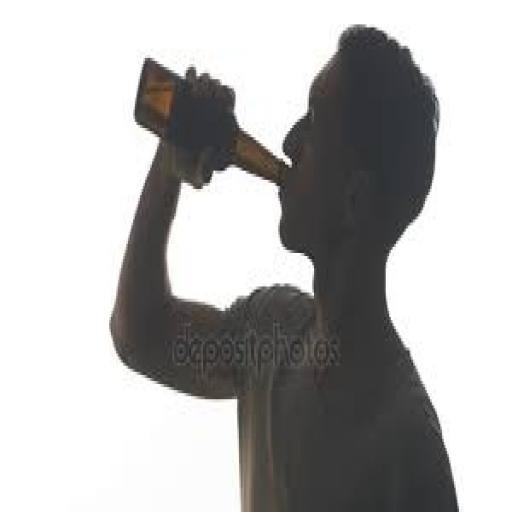drinking: (107, 21, 461, 509), (133, 55, 289, 189)
